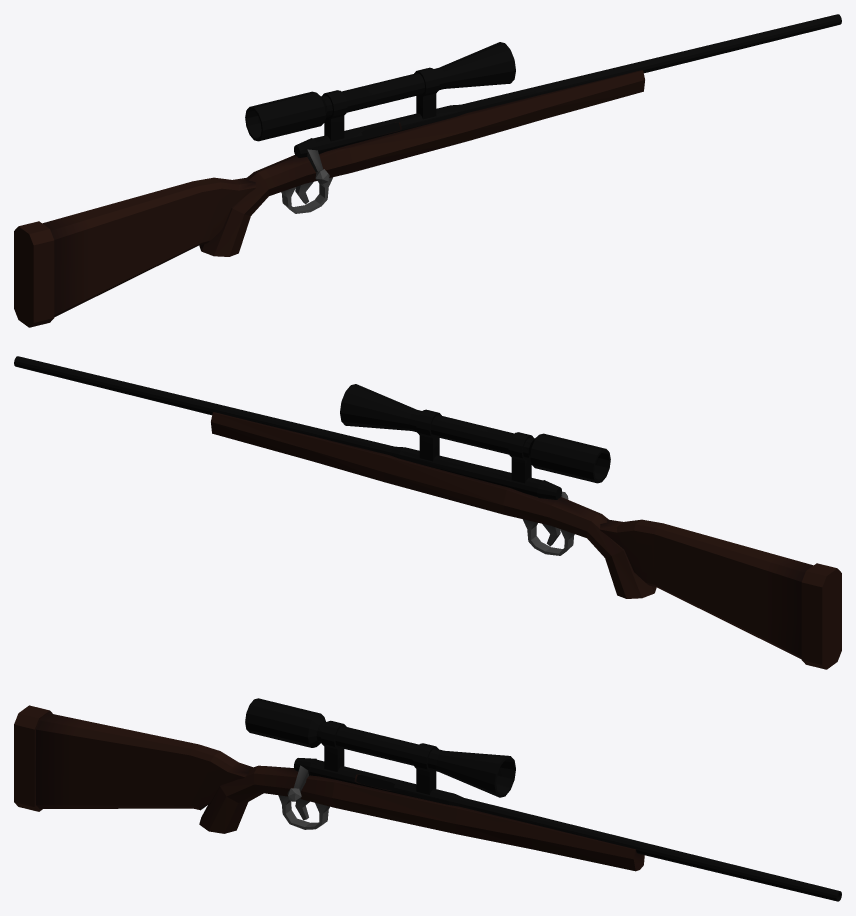
Rendered from z-sniperrifle-01.glb.
3 views of the same model, one above another, from view 1: azimuth 30°, elevation 25°; view 2: azimuth 150°, elevation 25°; view 3: azimuth 330°, elevation 25° (orthographic).
Parts seen in each view (by area): view 1: body; view 2: body; view 3: body.
Boxes of the visible parts, x1,y1,x2,y2 form: body: [14, 14, 841, 327]; body: [14, 356, 841, 669]; body: [14, 698, 841, 901].
Size of the model in its own units: 1.2 by 0.2294 by 0.0718.
